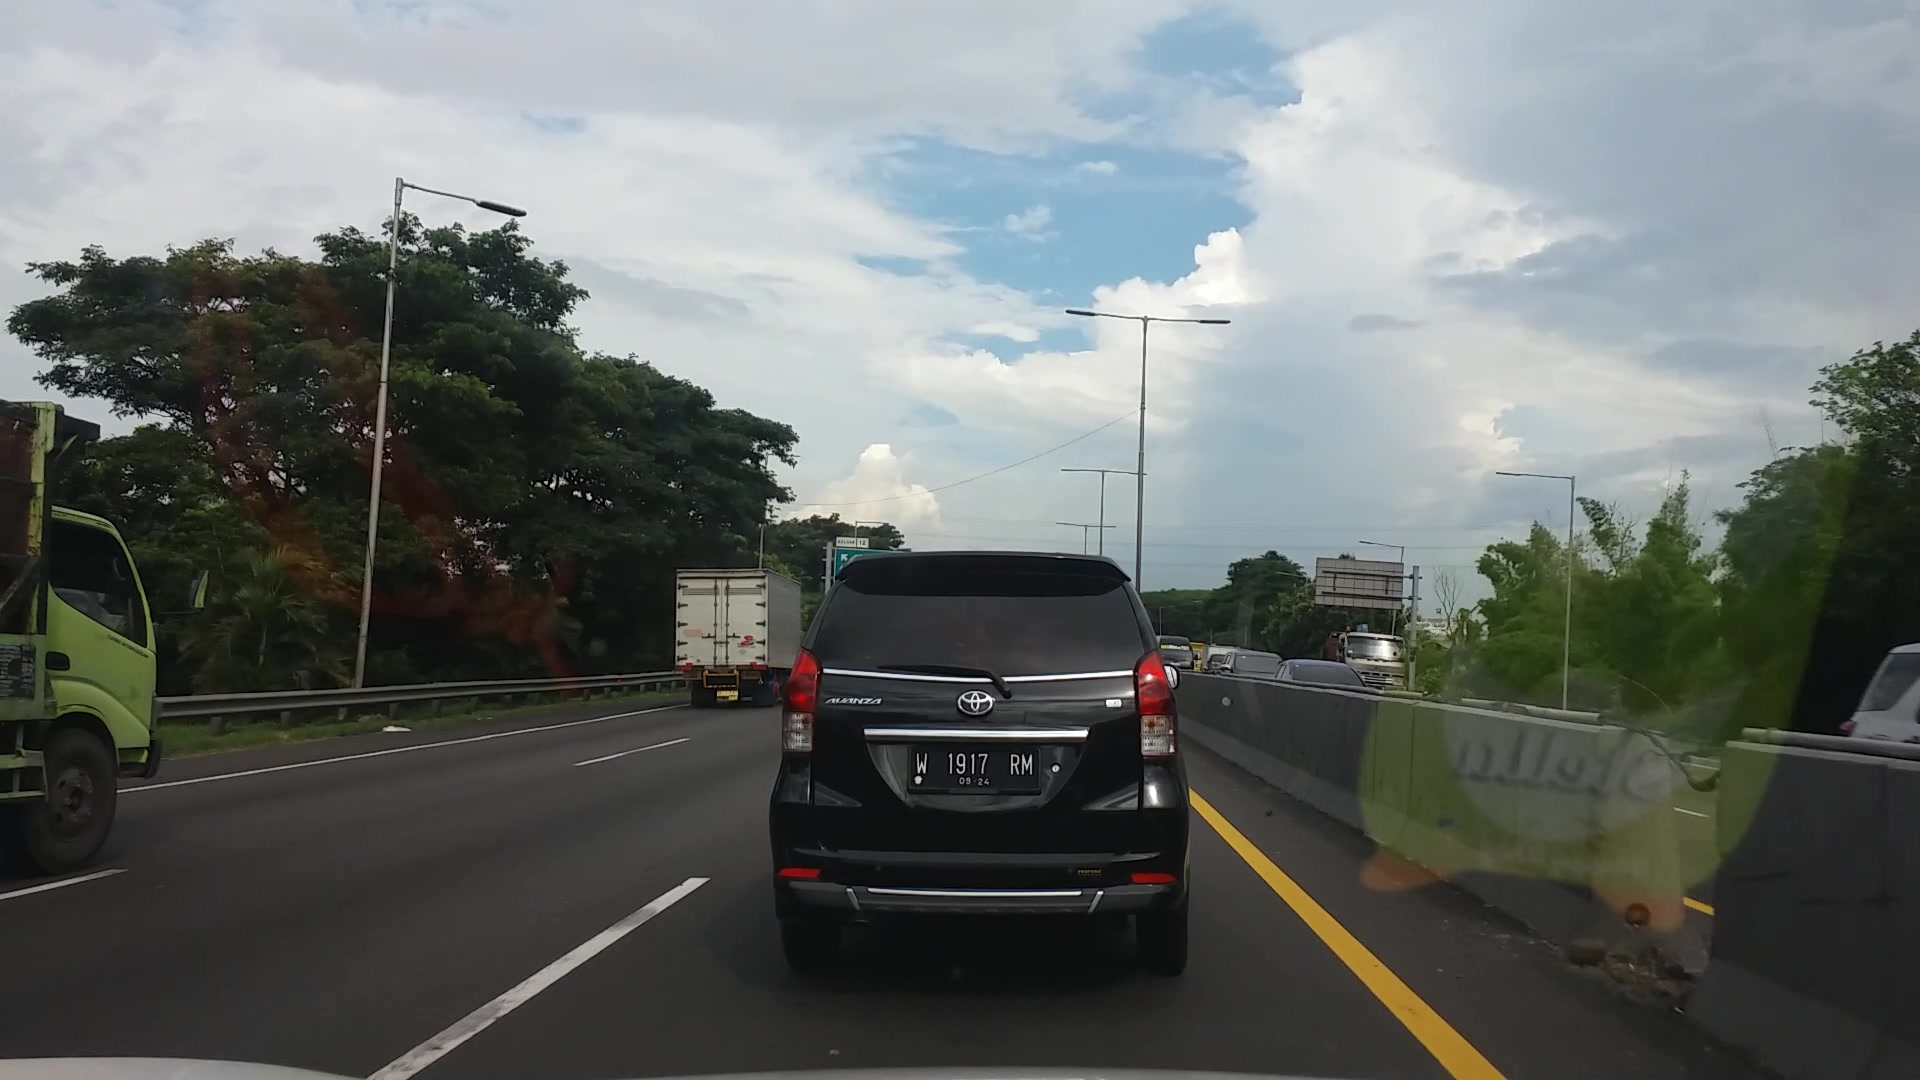plate_positive: (909, 742, 1040, 796)
